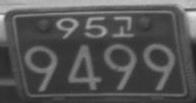4: (67, 43, 102, 90)
5: (84, 16, 107, 39)
9: (142, 42, 176, 91), (24, 44, 58, 92), (103, 43, 137, 90), (55, 16, 79, 39)
고: (111, 15, 134, 38)
